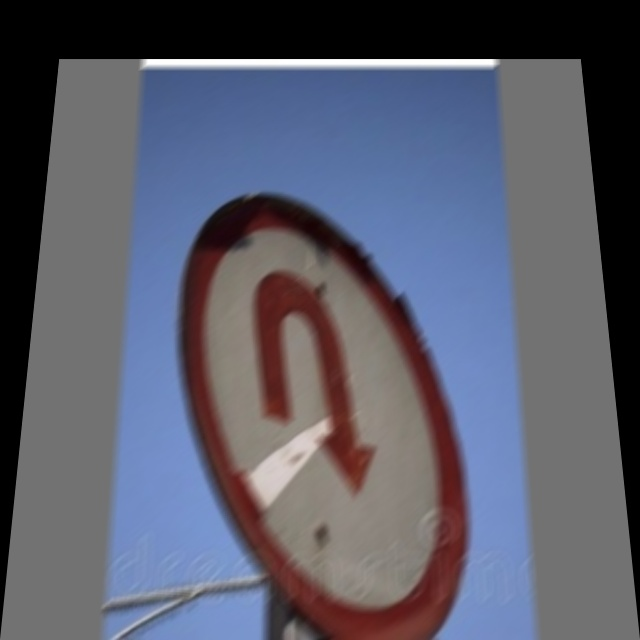U_Turn_Ahead: (172, 189, 478, 591)
